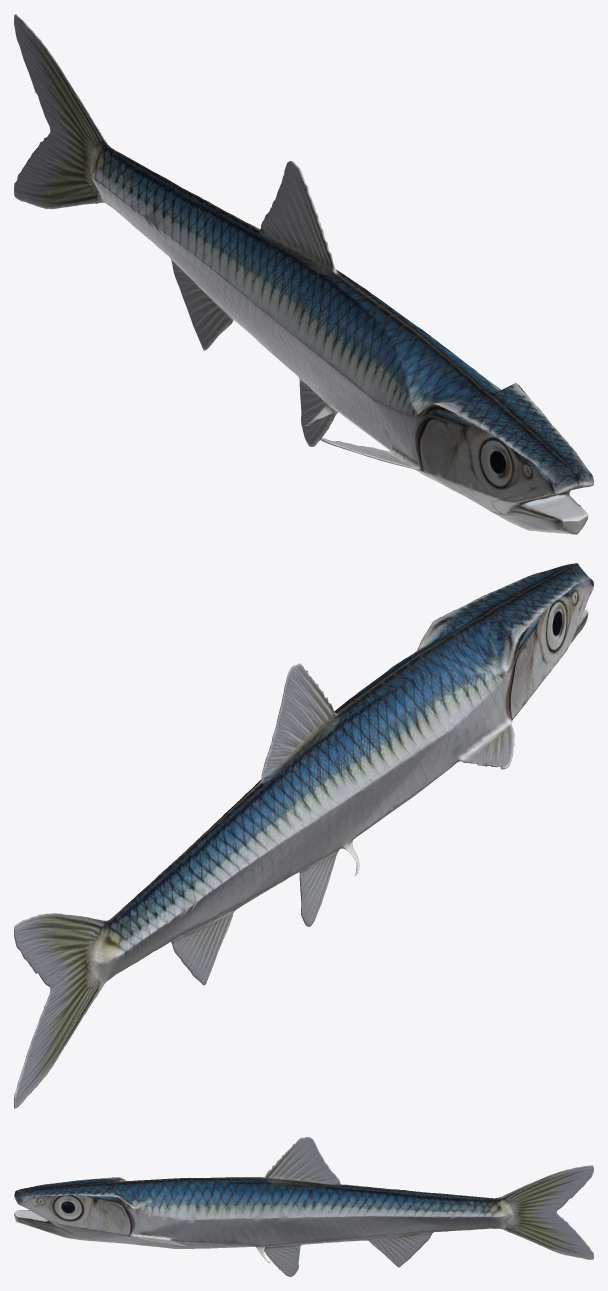
The model's file is katakuchiiwashi.glb.
3 views of the same model, one above another, from view 1: azimuth 30°, elevation 25°; view 2: azimuth 150°, elevation 25°; view 3: azimuth 270°, elevation 25° (orthographic). The views are drawn at different scales.
Bounding box in the file's own units: 0.3614 × 0.5046 × 1.9.
Materials: 1 (1 with a texture image).
